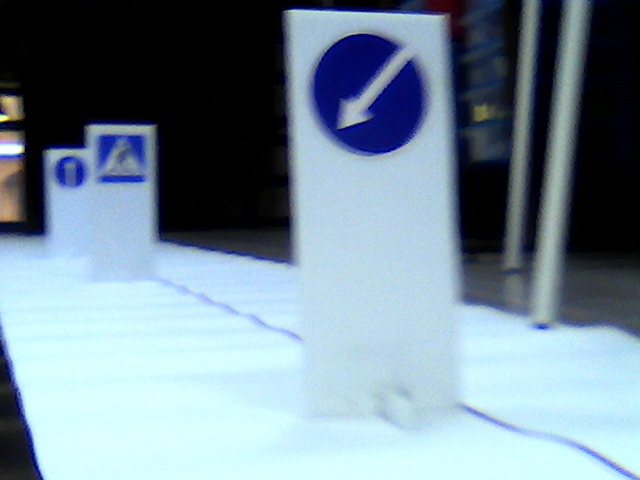pesh: (97, 133, 152, 181)
prep: (308, 32, 433, 157)
